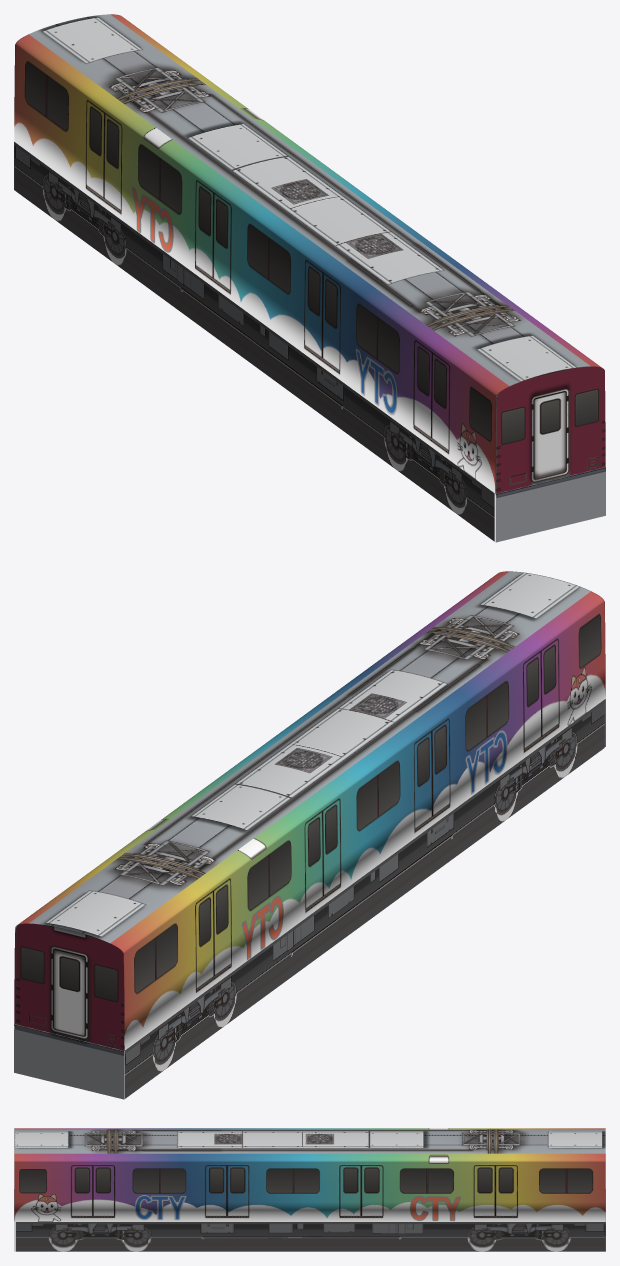
File: car2.glb
3 renders of one model, top to bottom at view 1: azimuth 30°, elevation 25°; view 2: azimuth 150°, elevation 25°; view 3: azimuth 270°, elevation 25°, orthographic. The views are drawn at different scales.
Visible parts, largest first — view 1: kintetsu-2000-car2; view 2: kintetsu-2000-car2; view 3: kintetsu-2000-car2.
Part boxes in pixels (x1=…): kintetsu-2000-car2: x1=14, y1=14, x2=605, y2=542; kintetsu-2000-car2: x1=14, y1=571, x2=605, y2=1099; kintetsu-2000-car2: x1=14, y1=1128, x2=605, y2=1251.
Size of the model in its own units: 2.74 by 3.71 by 20.75.
Materials: 9 (8 with a texture image).
